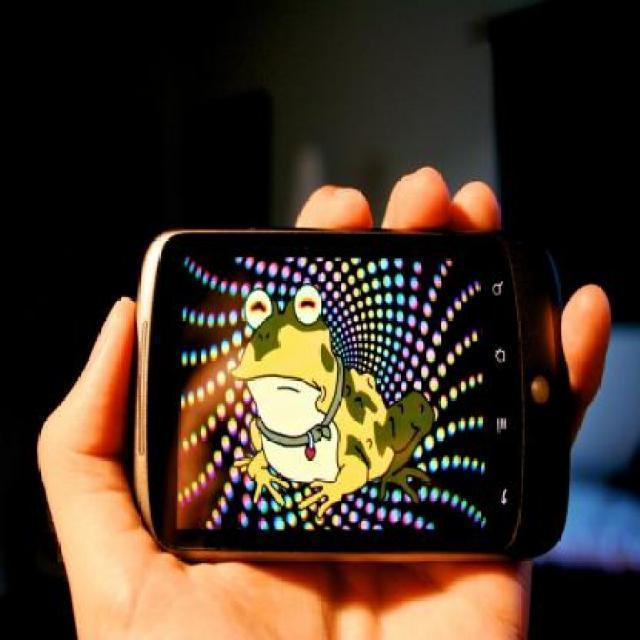phone: (141, 180, 593, 594)
